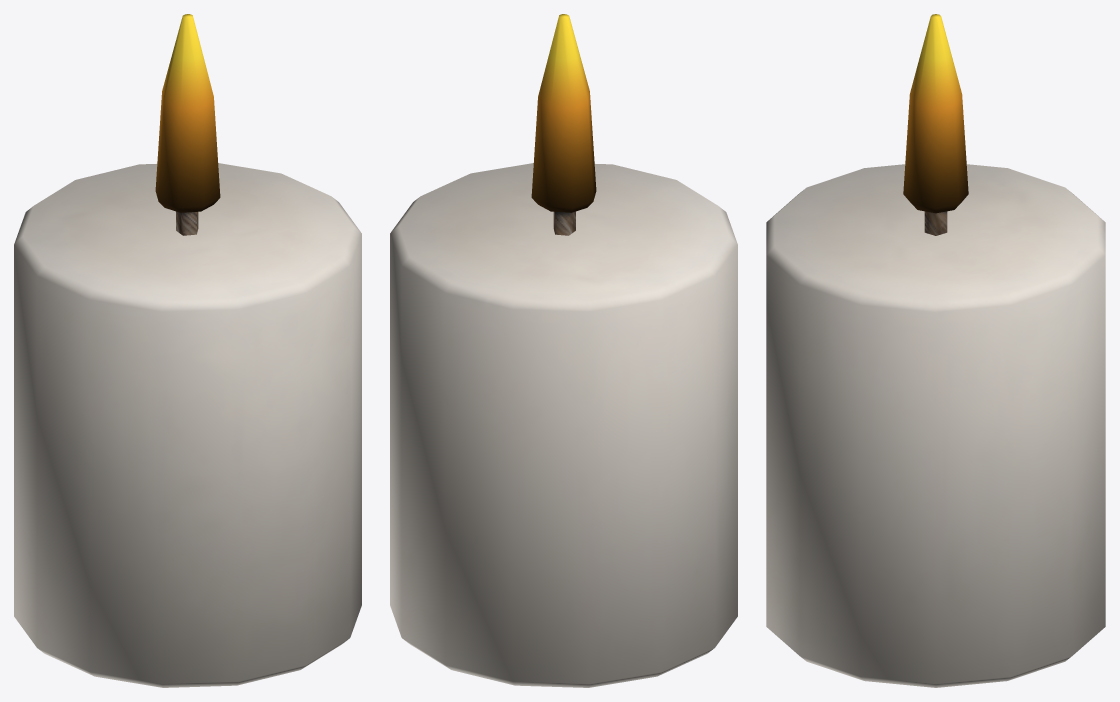
The model's file is DecorCandles01_2.FBX.
The picture shows the model from 3 angles, left to right: view 1: azimuth 30°, elevation 25°; view 2: azimuth 150°, elevation 25°; view 3: azimuth 270°, elevation 25°; orthographic projection.
Visible parts, largest first — view 1: DecorCandles01_2; view 2: DecorCandles01_2; view 3: DecorCandles01_2.
Boxes of the visible parts, x1,y1,x2,y2 form: DecorCandles01_2: (14, 14, 361, 687); DecorCandles01_2: (390, 14, 737, 687); DecorCandles01_2: (766, 14, 1105, 687).
Size of what is drawn, in the model's own units: 0.0775 by 0.1477 by 0.0755.
